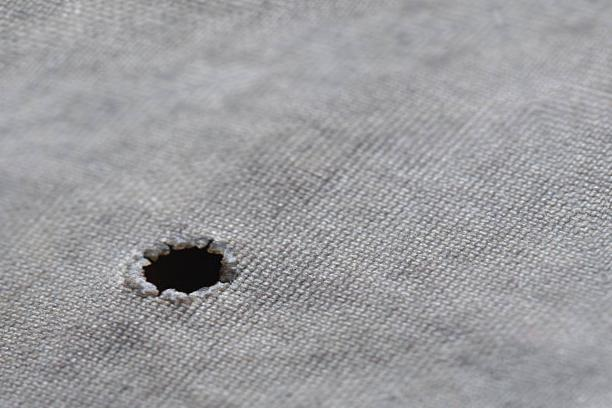hole: (131, 235, 243, 302)
